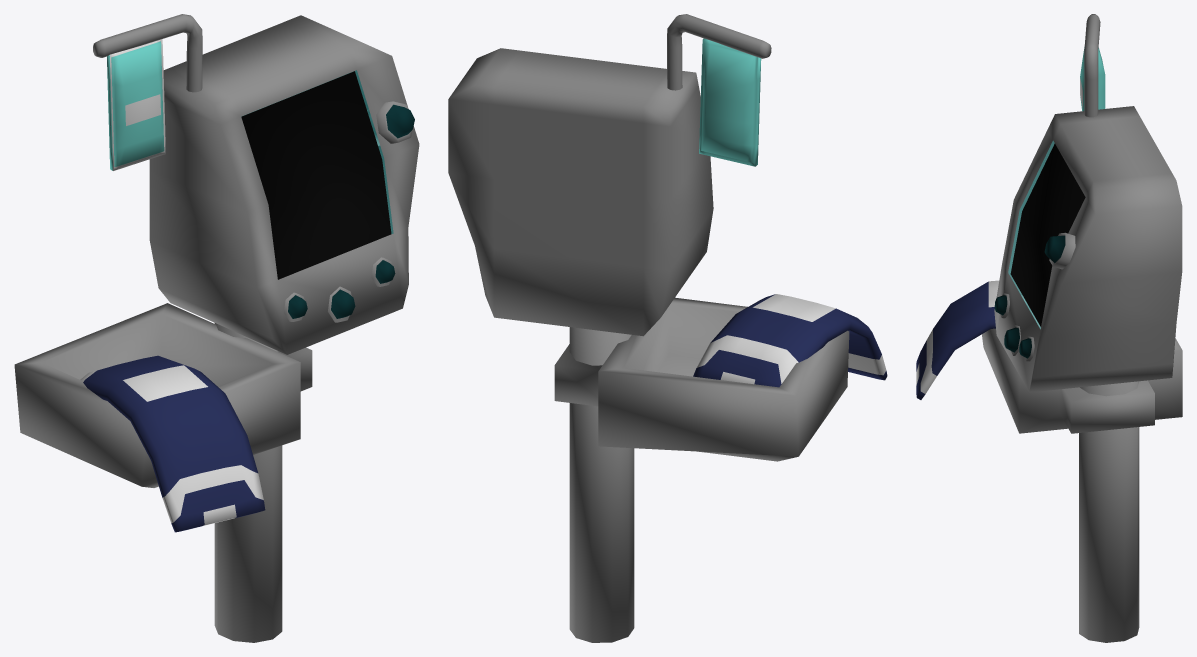
The model's file is vitals.fbx.
The picture shows the model from 3 angles, left to right: view 1: azimuth 30°, elevation 25°; view 2: azimuth 150°, elevation 25°; view 3: azimuth 270°, elevation 25°; orthographic projection. The views are drawn at different scales.
Parts seen in each view (by area): view 1: Cylinder, Plane; view 2: Cylinder, Plane; view 3: Cylinder, Plane.
Part boxes in pixels (<box>): Cylinder: <box>14,14,419,642</box>; Plane: <box>80,355,265,532</box>; Cylinder: <box>448,14,849,642</box>; Plane: <box>693,294,887,387</box>; Cylinder: <box>982,14,1182,642</box>; Plane: <box>916,280,999,399</box>.
Size of the model in its own units: 310 by 526 by 228.
